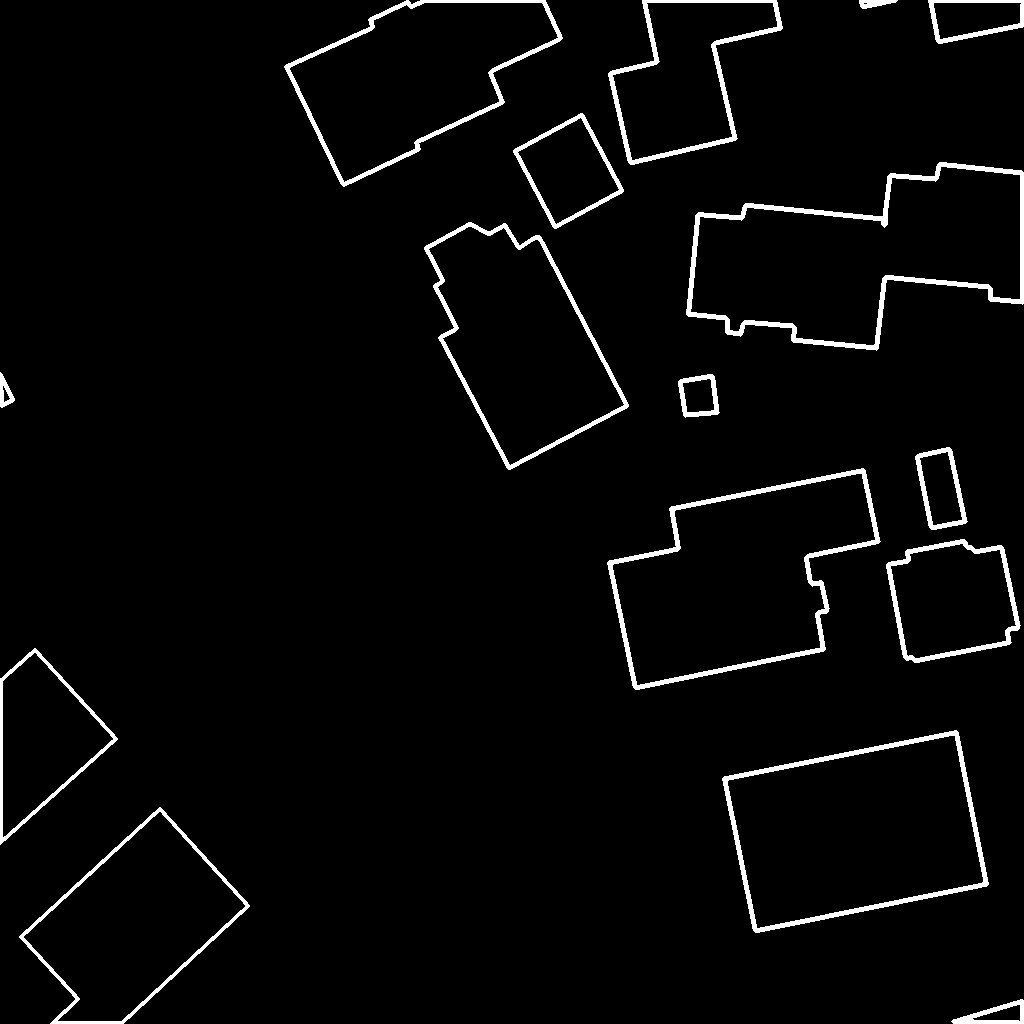building: (609, 470, 879, 689), (724, 732, 988, 932), (286, 0, 562, 186), (426, 224, 628, 469), (21, 809, 249, 1024), (688, 205, 885, 349), (610, 0, 782, 164), (0, 650, 117, 844), (884, 164, 1024, 303), (888, 541, 1019, 662), (515, 115, 623, 228), (861, 0, 1024, 43), (917, 449, 966, 529), (952, 1001, 1024, 1024), (680, 376, 718, 416), (0, 374, 14, 407)
